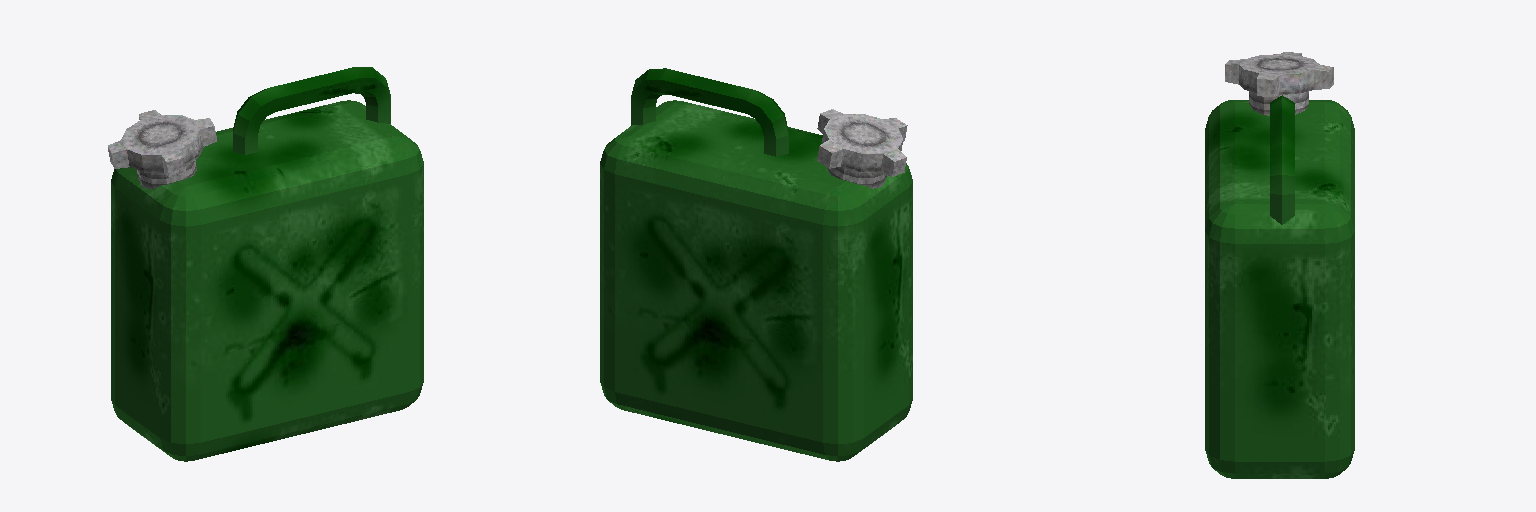
The picture shows the model from 3 angles: view 1: azimuth 30°, elevation 25°; view 2: azimuth 150°, elevation 25°; view 3: azimuth 270°, elevation 25°; orthographic projection.
Visible parts, largest first — view 1: Gastank; view 2: Gastank; view 3: Gastank.
Boxes of the visible parts, x1,y1,x2,y2 form: Gastank: [108, 67, 423, 461]; Gastank: [600, 68, 912, 461]; Gastank: [1205, 52, 1354, 478].
Size of the model in its own units: 21.76 by 24.08 by 10.
1 materials, 1 textured.